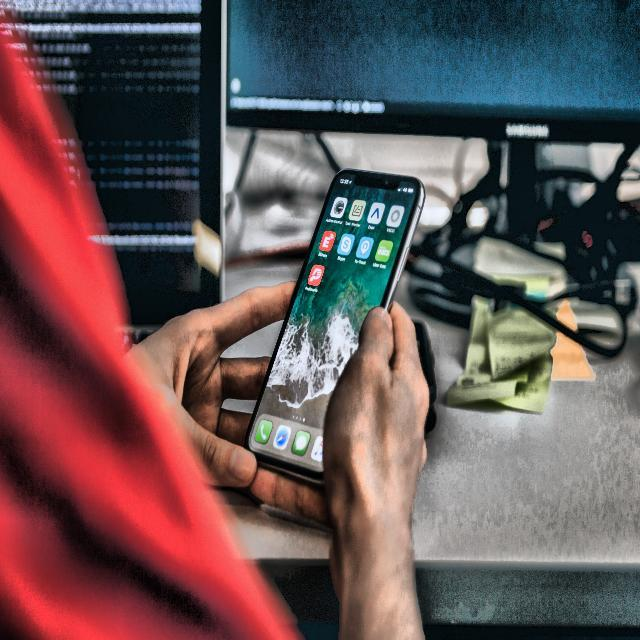Phone: (244, 168, 426, 490)
